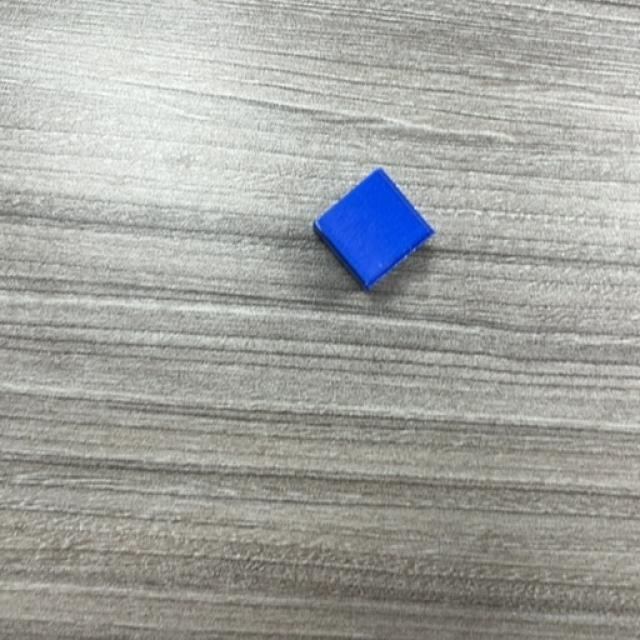Azul: (311, 169, 436, 291)
